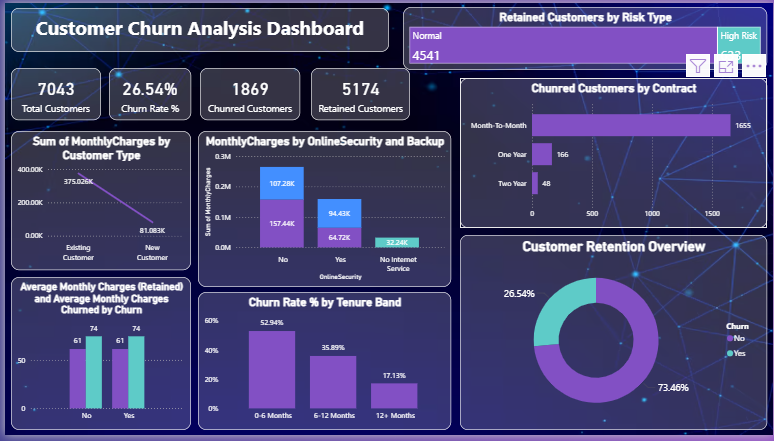

Layout of this report page (visuals, bound fields, positions):
{"tool":"powerbi","page":{"name":"Page 1","canvas":[1280,720],"ordinal":0},"visuals":[{"type":"textbox","box":[10,6.7,671.7,71.7],"z":0},{"type":"treemap","fields":{"Group":["telco_churn_unclean.Risk Type"],"Values":["Calculated Measures.Retained Customers"]},"box":[695,6.7,575,110],"z":1000},{"type":"card","fields":{"Values":["Calculated Measures.Total Customers"]},"box":[10,93.3,206.7,86.7],"z":2000},{"type":"card","fields":{"Values":["Calculated Measures.Churn Rate %"]},"box":[233.3,93.3,210,86.7],"z":2001},{"type":"card","fields":{"Values":["Calculated Measures.Chunred Customers"]},"box":[456.7,93.3,225,86.7],"z":2002},{"type":"donutChart","title":"Customer Retention Overview","fields":{"Y":["Calculated Measures.Total Customers"],"Category":["telco_churn_unclean.Churn"]},"box":[720,386.7,550,325],"z":2003},{"type":"clusteredBarChart","fields":{"Category":["telco_churn_unclean.Contract"],"Y":["Calculated Measures.Chunred Customers"]},"box":[720,125,550,250],"z":2004},{"type":"clusteredColumnChart","fields":{"Y":["Calculated Measures.Churn Rate %"],"Category":["telco_churn_unclean.Tenure Band"]},"box":[288.3,481.7,421.7,230],"z":2005},{"type":"columnChart","title":"MonthlyCharges by OnlineSecurity and Backup","fields":{"Category":["telco_churn_unclean.OnlineSecurity"],"Y":["Sum(telco_churn_unclean.MonthlyCharges)"],"Series":["telco_churn_unclean.OnlineBackup"]},"box":[288.3,191.7,421.7,281.7],"z":2006},{"type":"clusteredColumnChart","fields":{"Y":["Calculated Measures.Average Monthly Charges (Retained)","Calculated Measures.Average Monthly Charges Churned"],"Category":["telco_churn_unclean.Churn"]},"box":[10,426.7,265,285],"z":2007},{"type":"lineChart","fields":{"Category":["telco_churn_unclean.Customer Type"],"Y":["Sum(telco_churn_unclean.MonthlyCharges)"]},"box":[10,191.7,265,220],"z":2008}]}

Visuals, with their boxes in screenshot pixels (x1, y1, x2, y2), scaled from the page's 1280x720 canvas onto the 774x441 screenshot:
textbox: bbox=(6, 4, 412, 48)
treemap - telco_churn_unclean.Risk Type x Calculated Measures.Retained Customers: bbox=(420, 4, 768, 71)
card - Calculated Measures.Total Customers: bbox=(6, 57, 131, 110)
card - Calculated Measures.Churn Rate %: bbox=(141, 57, 268, 110)
card - Calculated Measures.Chunred Customers: bbox=(276, 57, 412, 110)
"Customer Retention Overview" donutChart: bbox=(435, 237, 768, 436)
clusteredBarChart - telco_churn_unclean.Contract x Calculated Measures.Chunred Customers: bbox=(435, 77, 768, 230)
clusteredColumnChart - Calculated Measures.Churn Rate % x telco_churn_unclean.Tenure Band: bbox=(174, 295, 429, 436)
"MonthlyCharges by OnlineSecurity and Backup" columnChart: bbox=(174, 117, 429, 290)
clusteredColumnChart - Calculated Measures.Average Monthly Charges (Retained) x Calculated Measures.Average Monthly Charges Churned: bbox=(6, 261, 166, 436)
lineChart - telco_churn_unclean.Customer Type x Sum(telco_churn_unclean.MonthlyCharges): bbox=(6, 117, 166, 252)
